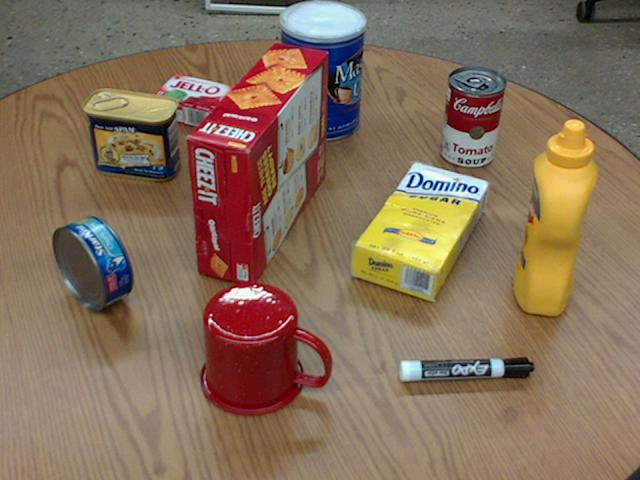cracker_box: (187, 42, 325, 285)
gelatin_box: (147, 72, 234, 126)
large_marker: (399, 357, 533, 381)
master_chef_can: (279, 0, 364, 140)
mug: (200, 281, 329, 415)
mustard_bottle: (514, 121, 597, 315)
potted_meat_can: (83, 87, 179, 178)
sugar_box: (350, 163, 489, 298)
tomato_soup_can: (440, 66, 506, 167)
tuna_fish_can: (52, 216, 133, 309)
